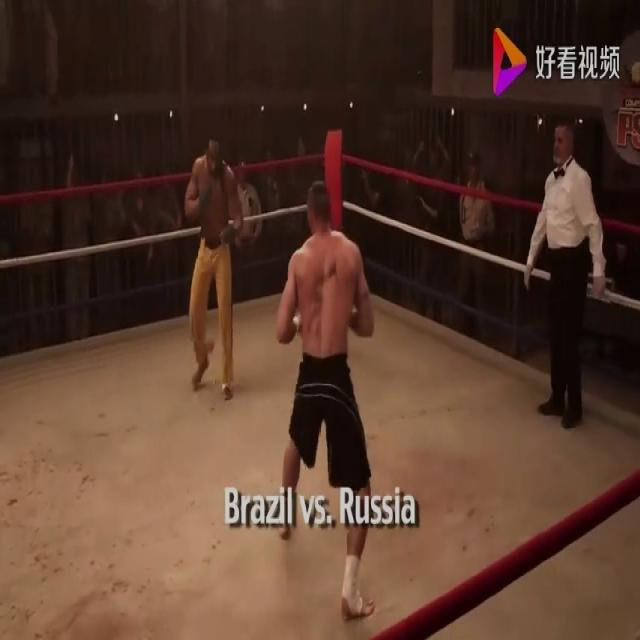fight: (184, 127, 389, 632)
non-fight: (522, 116, 606, 428)
